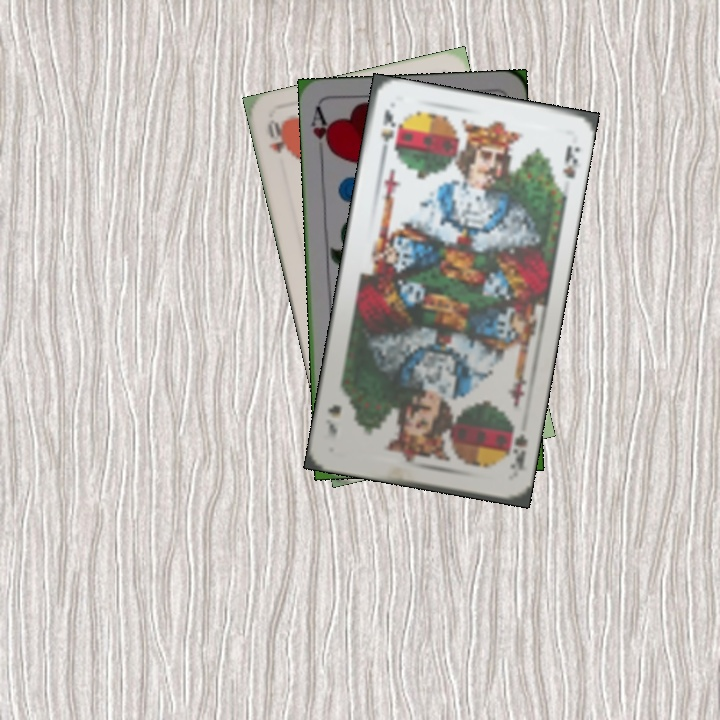HA: (307, 103, 335, 163)
HO: (263, 116, 288, 156)
SK: (376, 105, 399, 161), (506, 430, 531, 473)
